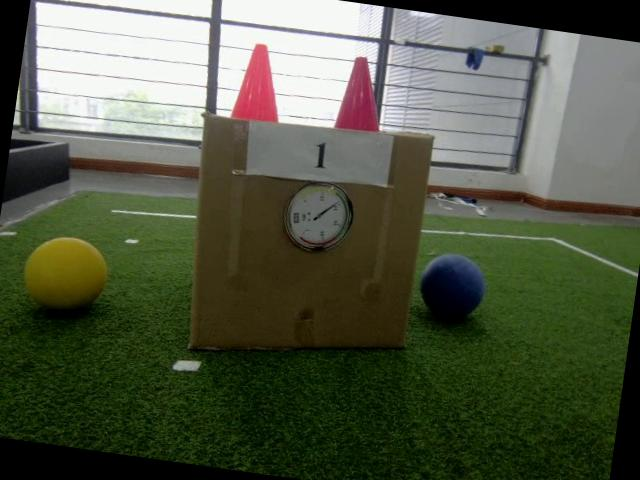1: (312, 138, 334, 172)
Dashboard: (280, 176, 358, 258)
blue_ball: (414, 249, 489, 324)
orange_barrel: (228, 39, 292, 128)
red_barrel: (331, 55, 396, 138)
ssi: (291, 209, 301, 225)
yellow_ball: (18, 232, 112, 317)
